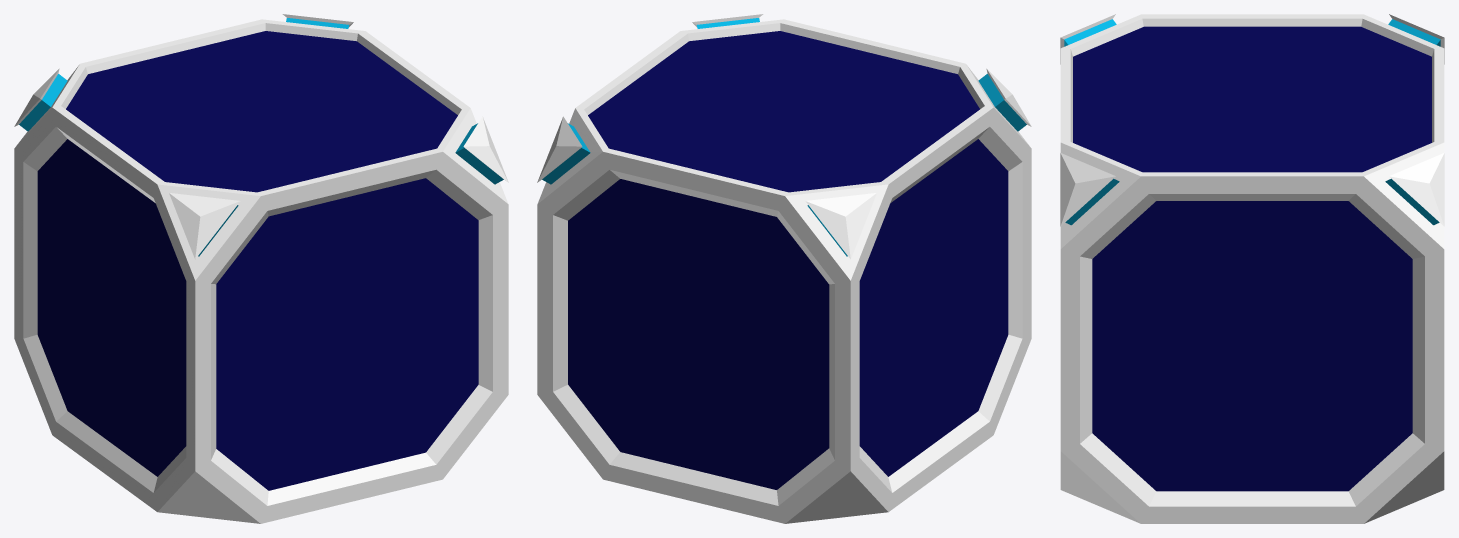
Rendered from SurfaceNodeV2.fbx.
3 renders of one model, left to right at view 1: azimuth 30°, elevation 25°; view 2: azimuth 150°, elevation 25°; view 3: azimuth 270°, elevation 25°, orthographic. The views are drawn at different scales.
Visible parts, largest first — view 1: Cube; view 2: Cube; view 3: Cube.
Boxes of the visible parts, <box> form: Cube: <box>14,14,508,523</box>; Cube: <box>537,14,1031,523</box>; Cube: <box>1060,14,1444,523</box>.
Size of the model in its own units: 200 by 200 by 200.
